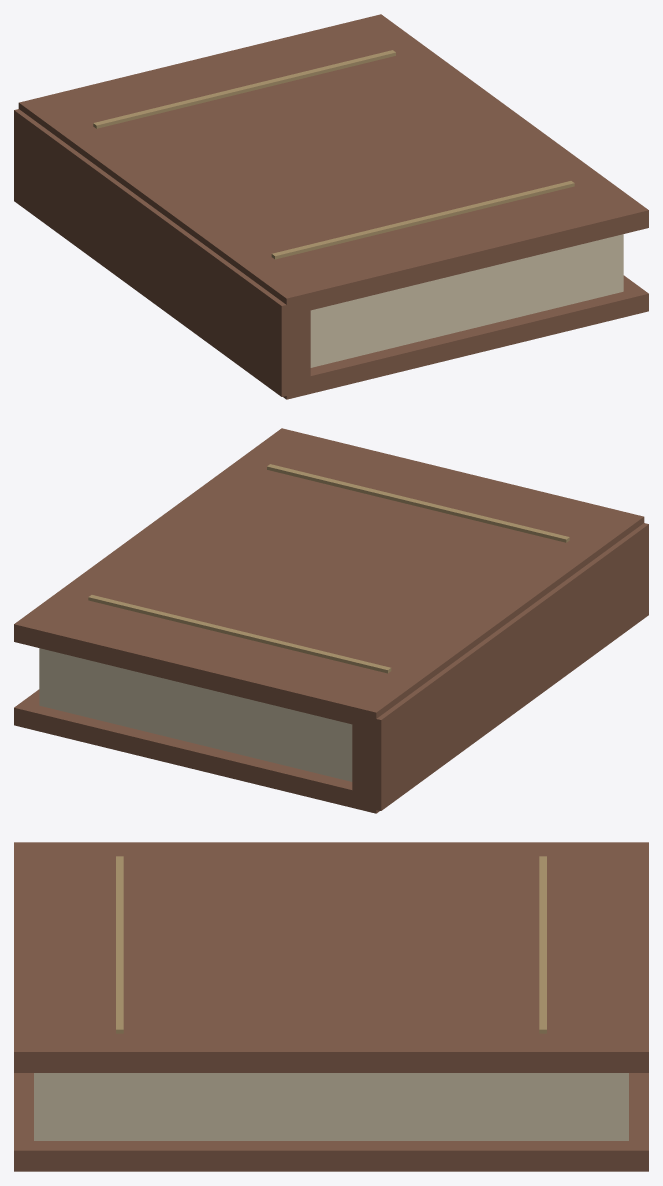
The model's file is office-ledger.glb.
The picture shows the model from 3 angles, top to bottom: view 1: azimuth 30°, elevation 25°; view 2: azimuth 150°, elevation 25°; view 3: azimuth 270°, elevation 25°; orthographic projection. The views are drawn at different scales.
Visible parts, largest first — view 1: 账本封皮.001, 账本书脊, 账本纸页, 账本封皮, 账本压线, 账本压线.001; view 2: 账本封皮.001, 账本书脊, 账本纸页, 账本封皮, 账本压线.001, 账本压线; view 3: 账本封皮.001, 账本纸页, 账本封皮, 账本压线, 账本压线.001.
Part boxes in pixels (x1,y1,x2,y2): 账本封皮.001: (18, 14, 648, 315); 账本书脊: (14, 109, 310, 396); 账本纸页: (310, 234, 623, 367); 账本封皮: (283, 275, 648, 399); 账本压线: (271, 181, 574, 259); 账本压线.001: (93, 50, 395, 128); 账本封皮.001: (14, 428, 644, 729); 账本书脊: (352, 523, 648, 810); 账本纸页: (39, 648, 352, 781); 账本封皮: (14, 689, 379, 813); 账本压线.001: (88, 595, 391, 673); 账本压线: (267, 464, 569, 542); 账本封皮.001: (14, 842, 648, 1072); 账本纸页: (34, 1073, 628, 1140); 账本封皮: (14, 1073, 648, 1171); 账本压线: (116, 856, 123, 1033); 账本压线.001: (539, 856, 546, 1033).
Size of the model in its own units: 0.76 by 0.2065 by 0.96.
